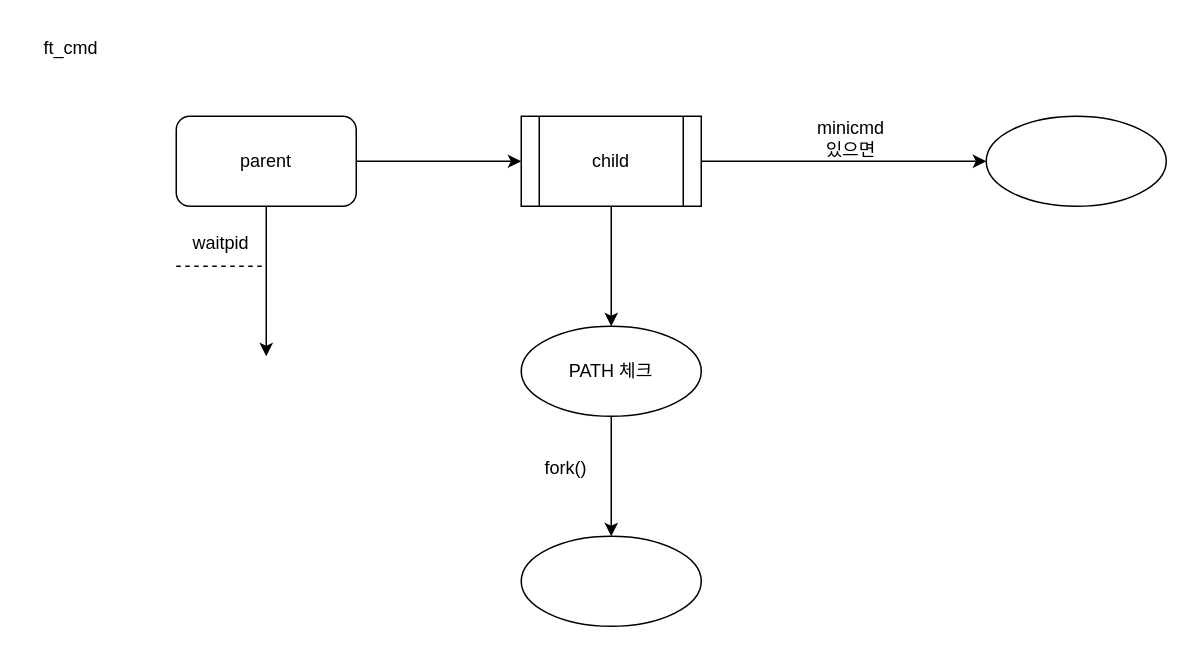
This 1193x653 diagram has some shape labels left out. The box of each missing label's shape, as (x1, y1, x2, y2) in pixels:
child2: (520, 535, 701, 626)
minicmd 실행: (985, 115, 1166, 206)
